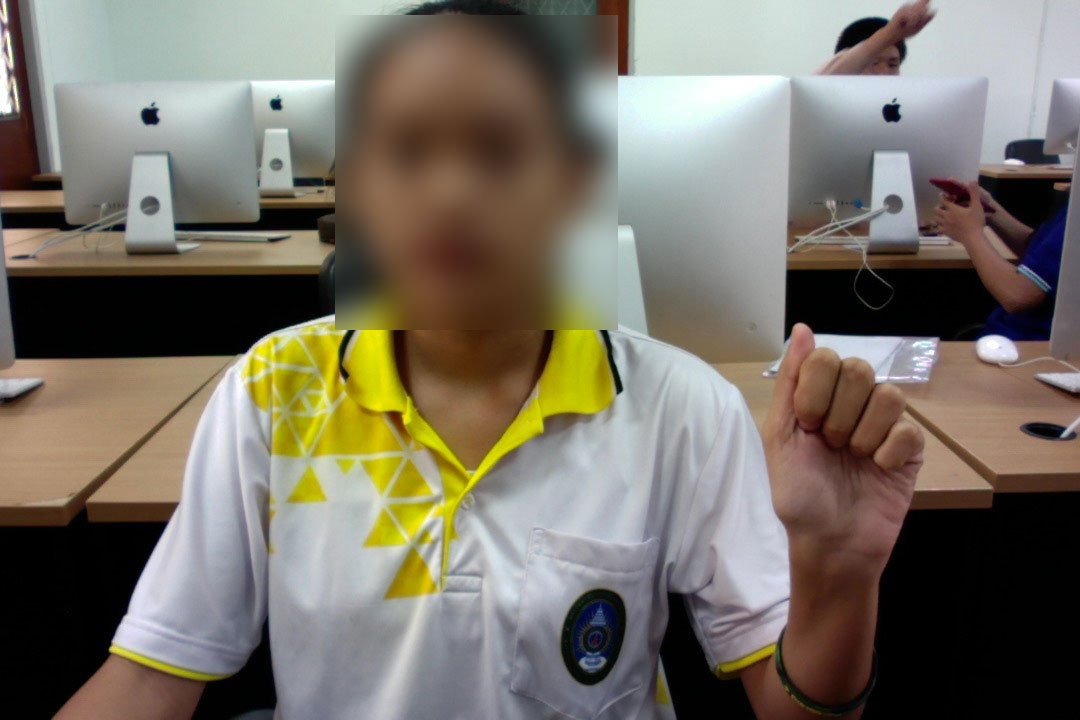or: (754, 311, 933, 583)
